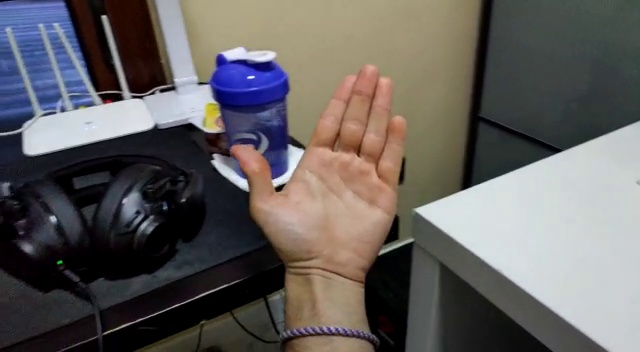Palm: (228, 58, 410, 284)
